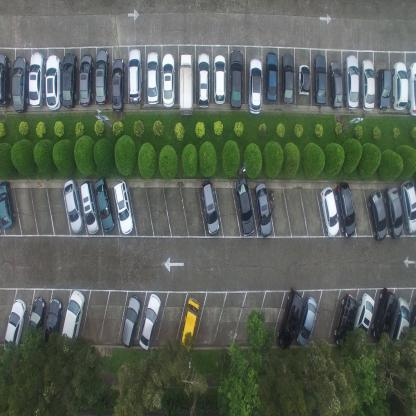car: (276, 288, 304, 351), (60, 288, 85, 354), (370, 286, 398, 344), (333, 293, 359, 348), (138, 292, 162, 350), (3, 298, 27, 354), (352, 292, 375, 347), (179, 296, 201, 352), (112, 180, 134, 236), (234, 177, 254, 238), (94, 176, 115, 233), (335, 181, 356, 238), (388, 297, 410, 351), (121, 293, 142, 348), (296, 295, 318, 347), (80, 179, 100, 236), (200, 180, 220, 235), (64, 178, 84, 233), (384, 185, 404, 239), (26, 296, 46, 349), (178, 52, 194, 117), (320, 186, 340, 238), (43, 296, 62, 350), (254, 182, 272, 238), (61, 52, 78, 110), (12, 55, 29, 113), (44, 53, 61, 110), (368, 190, 387, 241), (28, 50, 44, 108), (78, 51, 94, 106), (400, 180, 416, 235), (249, 56, 264, 114), (94, 48, 109, 106), (230, 48, 244, 110), (344, 53, 359, 110), (359, 58, 375, 111), (160, 53, 175, 108), (0, 180, 16, 230), (392, 61, 408, 111), (128, 47, 142, 104), (196, 53, 210, 109), (111, 57, 125, 112), (313, 52, 327, 107), (146, 51, 160, 105), (213, 53, 227, 106), (280, 52, 294, 105), (328, 60, 343, 109), (265, 51, 278, 104), (376, 68, 392, 110), (0, 50, 10, 108), (297, 62, 311, 96), (408, 61, 416, 117)
